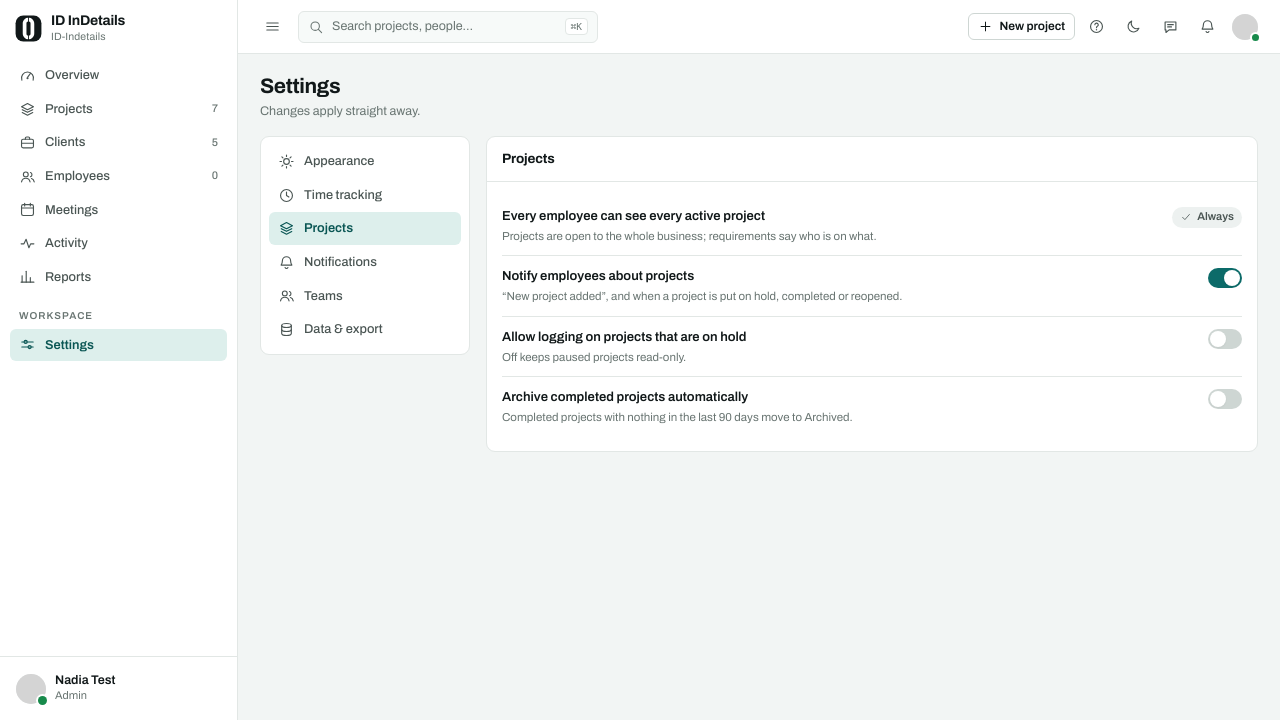
Settings › saves a domain rule, keeping every other rule
Click the switch named "Allow logging on projects that are on hold" at (1225, 339), box [1208,329,1242,349]
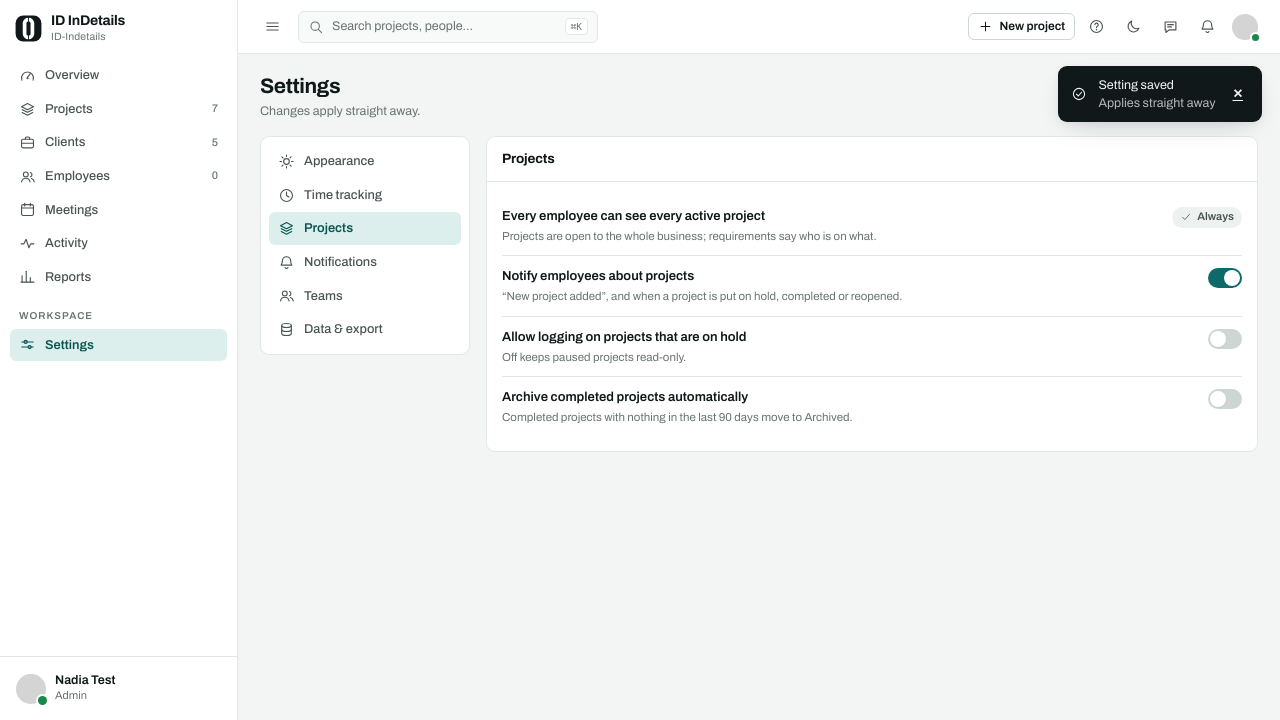
Now the text "Setting saved" is shown, box [1098,78,1174,92]
